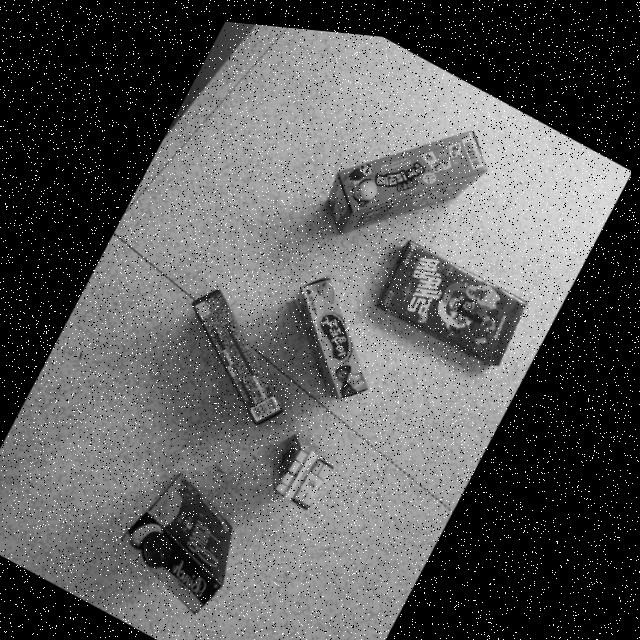box: (383, 231, 532, 354), (331, 120, 490, 224), (130, 469, 240, 609), (196, 283, 290, 418), (299, 269, 375, 390), (281, 428, 341, 503)
